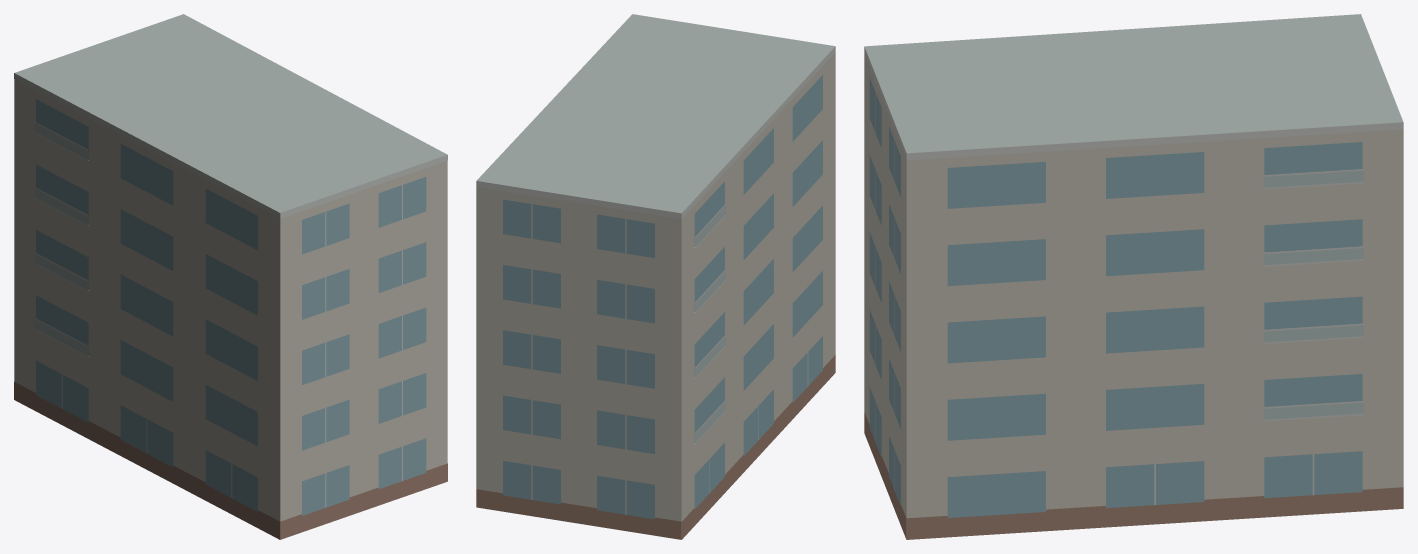
File: survey-upis-32738795.glb
3 views of the same model, side by side, from view 1: azimuth 30°, elevation 25°; view 2: azimuth 150°, elevation 25°; view 3: azimuth 270°, elevation 25° (orthographic). The views are drawn at different scales.
Parts seen in each view (by area): view 1: survey-upis-32738795.tmp; view 2: survey-upis-32738795.tmp; view 3: survey-upis-32738795.tmp.
Part boxes in pixels (x1,y1,x2,y2): survey-upis-32738795.tmp: (14, 14, 447, 539); survey-upis-32738795.tmp: (476, 14, 835, 539); survey-upis-32738795.tmp: (864, 14, 1403, 539).
Size of the model in its own units: 10.52 by 13.6 by 17.21.
